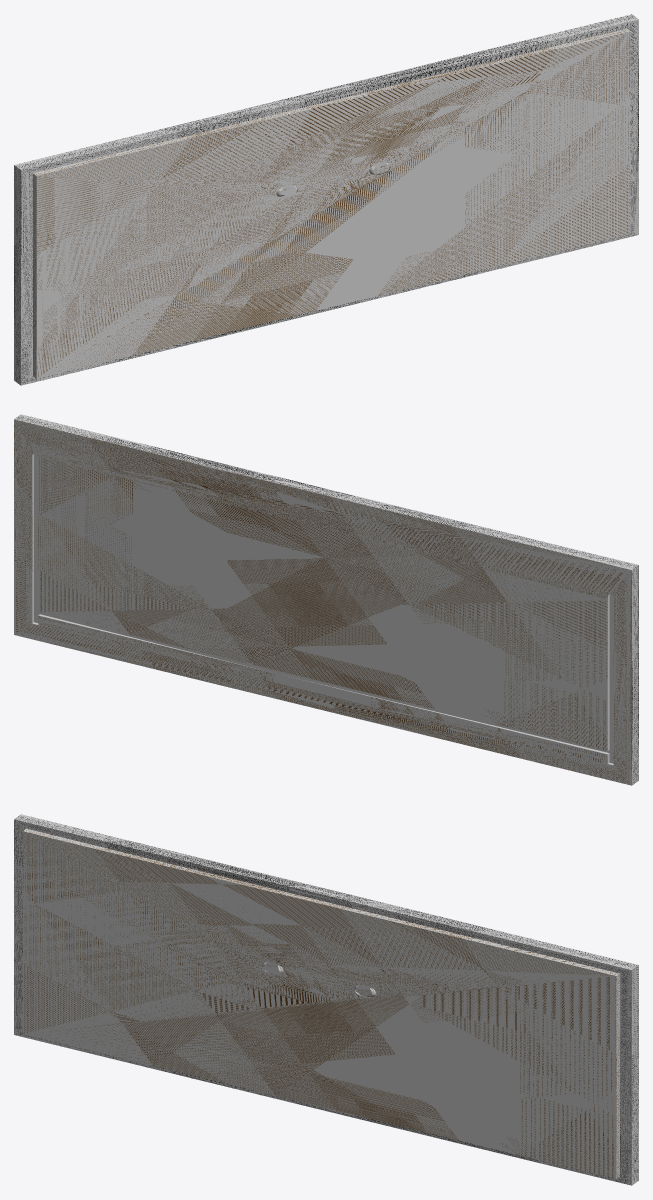
The picture shows the model from 3 angles, top to bottom: view 1: azimuth 30°, elevation 25°; view 2: azimuth 150°, elevation 25°; view 3: azimuth 330°, elevation 25°; orthographic projection.
Bounding box in the file's own units: 0.5356 × 0.1785 × 0.0196.
Materials: 4 (1 with a texture image).
